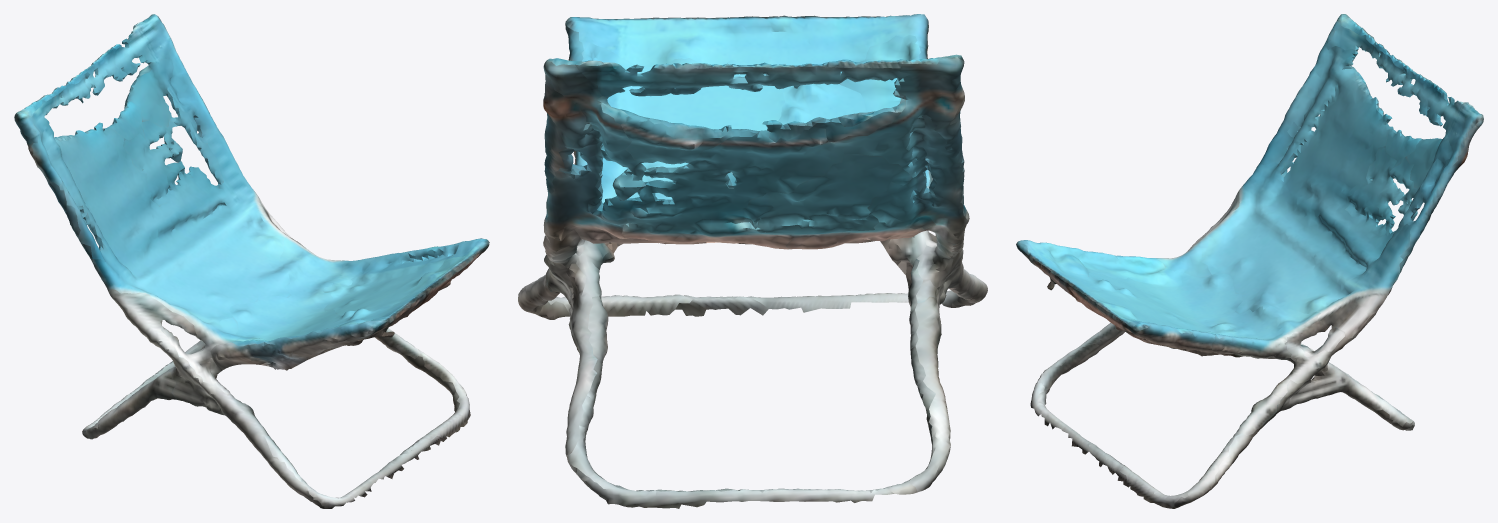
Rendered from chairBlue.fbx.
3 views of the same model, side by side, from view 1: azimuth 30°, elevation 25°; view 2: azimuth 150°, elevation 25°; view 3: azimuth 270°, elevation 25° (orthographic). The views are drawn at different scales.
Parts seen in each view (by area): view 1: meshes_0_; view 2: meshes_0_; view 3: meshes_0_.
Boxes of the visible parts, box(x1,y1,x2,y2) form: meshes_0_: box(14, 14, 489, 508); meshes_0_: box(518, 14, 987, 508); meshes_0_: box(1016, 14, 1483, 508).
Bounding box in the file's own units: 0.7134 × 0.5947 × 0.7881.
Materials: 1 (1 with a texture image).
